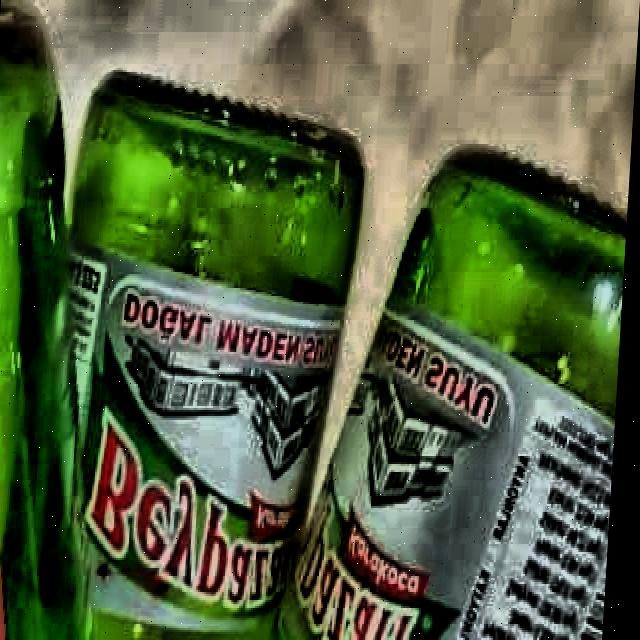glass: (0, 0, 630, 640)
